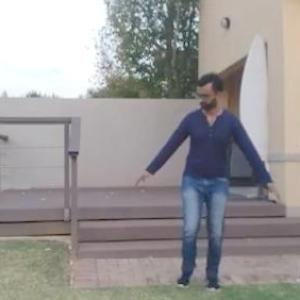land: (137, 60, 282, 292)
